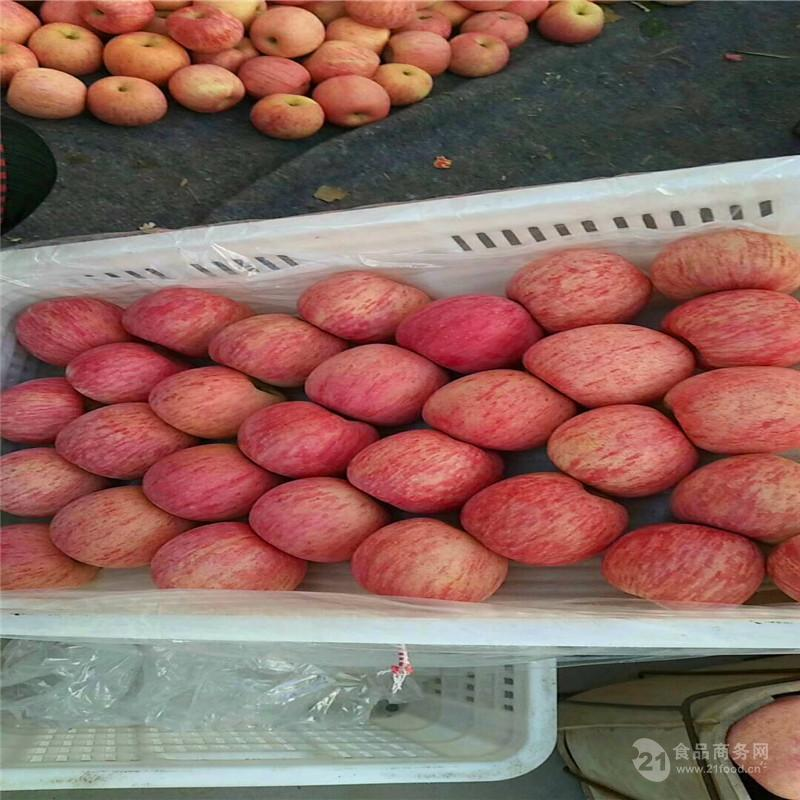apple: (458, 470, 632, 566), (522, 322, 699, 407), (545, 403, 698, 496), (605, 522, 765, 606), (347, 429, 505, 514), (350, 518, 508, 600), (251, 479, 399, 565), (302, 342, 448, 427), (424, 368, 571, 452), (665, 367, 800, 456), (507, 249, 652, 330), (149, 521, 309, 592), (51, 486, 188, 568), (651, 227, 796, 304), (396, 293, 539, 371), (52, 401, 193, 478), (660, 287, 800, 364), (677, 453, 800, 540), (236, 402, 380, 476), (141, 444, 275, 520), (208, 314, 346, 386), (149, 367, 285, 437), (297, 272, 430, 343), (121, 286, 247, 358), (2, 523, 98, 593), (2, 447, 98, 517), (17, 298, 127, 359), (1, 521, 96, 591), (1, 380, 83, 442), (104, 30, 190, 83), (86, 76, 169, 126), (8, 68, 88, 119), (314, 76, 392, 126), (26, 23, 105, 72), (249, 7, 326, 57), (170, 63, 245, 112), (249, 91, 325, 139), (167, 6, 244, 52), (305, 41, 380, 83), (386, 31, 450, 78), (237, 57, 311, 96), (449, 31, 509, 78), (461, 12, 528, 49), (376, 63, 433, 105), (323, 18, 388, 54)
